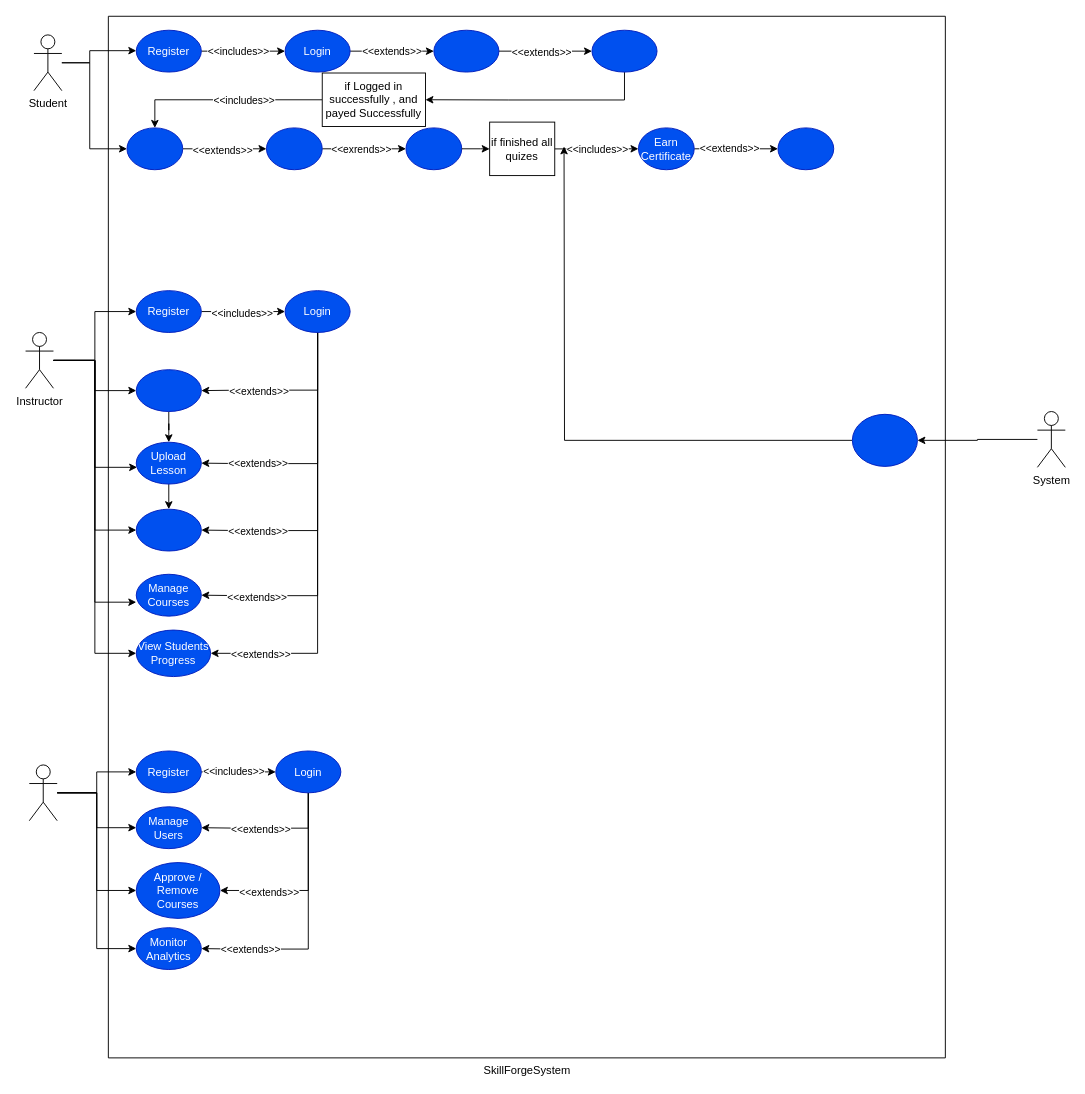
This 1085x1094 diagram has some shape labels left out. The shapes that lost their labels are listed below. From the top down, each one's centre as x and y in pixels, then its label:
At point 466,50: "Browse Courses".
At point 624,50: "Enroll Course".
At point 154,148: "View Lessons".
At point 294,148: "Take Quiz".
At point 433,148: "View Results".
At point 805,148: "View Analysis".
At point 168,390: "Create Courses".
At point 884,439: "Generate Certificate".
At point 168,529: "Create Quiz".
At point 42,792: "Admin".
